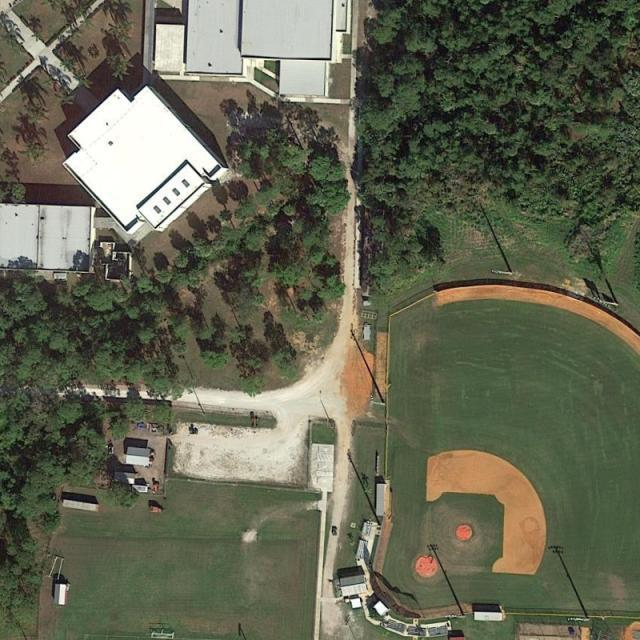vehicle: (331, 526, 338, 537)
